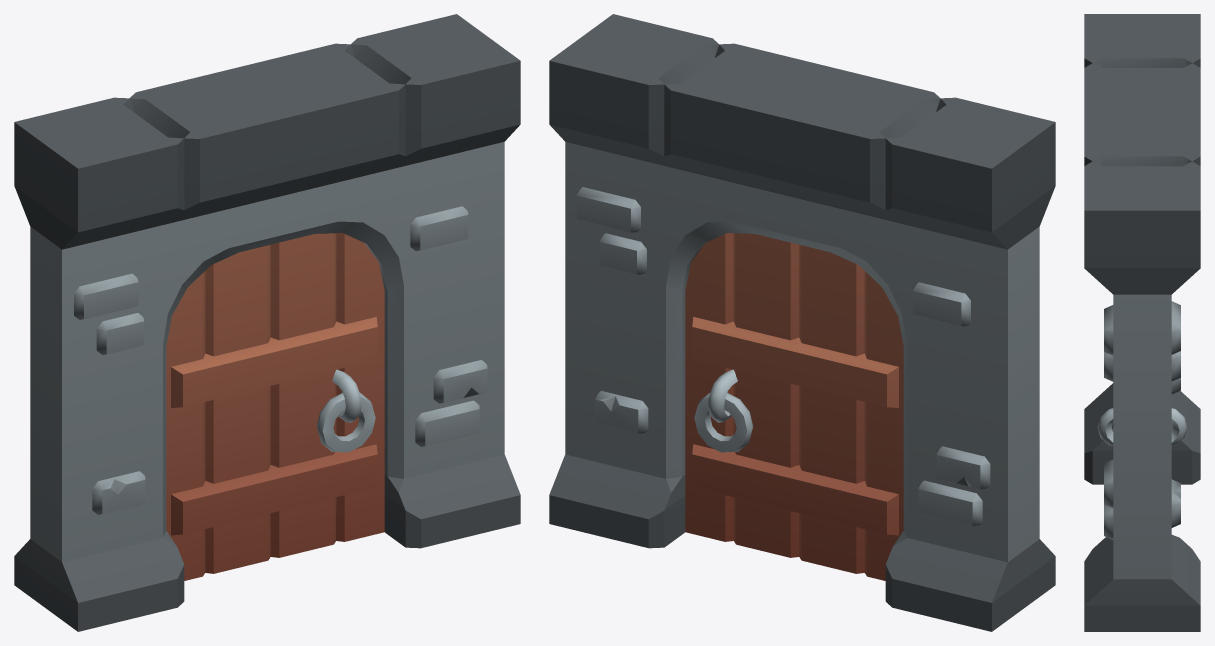
File: wall_doorway.gltf
The picture shows the model from 3 angles, left to right: view 1: azimuth 30°, elevation 25°; view 2: azimuth 150°, elevation 25°; view 3: azimuth 270°, elevation 25°; orthographic projection. The views are drawn at different scales.
Visible parts, largest first — view 1: wall_doorway, wall_doorway_door; view 2: wall_doorway, wall_doorway_door; view 3: wall_doorway, wall_doorway_door.
Boxes of the visible parts, <box> form: wall_doorway: <box>14,14,520,631</box>; wall_doorway_door: <box>166,233,384,580</box>; wall_doorway: <box>549,14,1055,631</box>; wall_doorway_door: <box>685,233,903,580</box>; wall_doorway: <box>1084,14,1200,631</box>; wall_doorway_door: <box>1097,408,1187,445</box>.
Bounding box in the file's own units: 4 × 4 × 1.
Materials: 1 (1 with a texture image).
